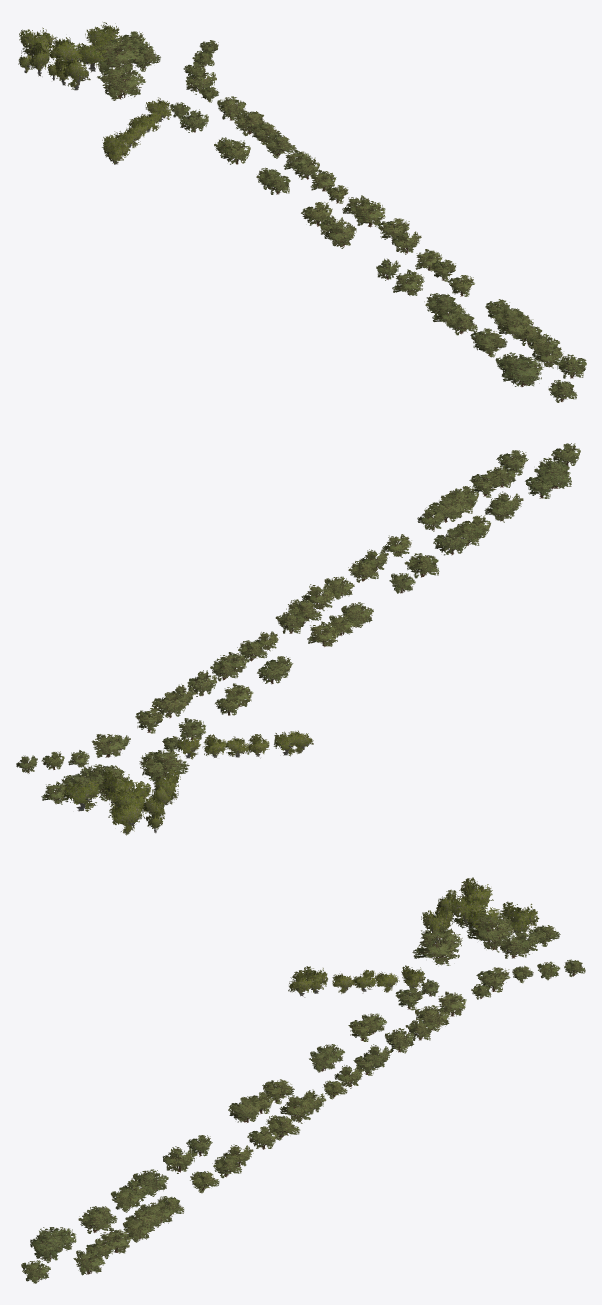
The picture shows the model from 3 angles, top to bottom: view 1: azimuth 30°, elevation 25°; view 2: azimuth 150°, elevation 25°; view 3: azimuth 330°, elevation 25°; orthographic projection.
Parts seen in each view (by area): view 1: geometry_0; view 2: geometry_0; view 3: geometry_0.
Boxes of the visible parts, x1,y1,x2,y2 form: geometry_0: (18, 22, 586, 402); geometry_0: (16, 443, 580, 835); geometry_0: (21, 877, 585, 1283).
Size of the model in its own units: 110 by 17.61 by 457.
Materials: 1 (1 with a texture image).
